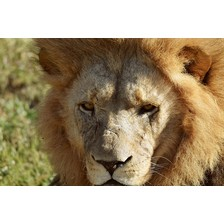lion: (30, 38, 224, 186)
